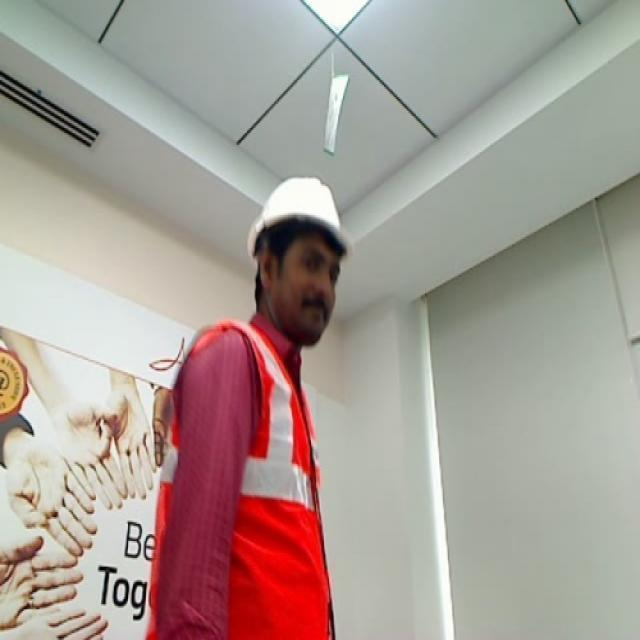safety_helmet: (157, 322, 334, 640)
